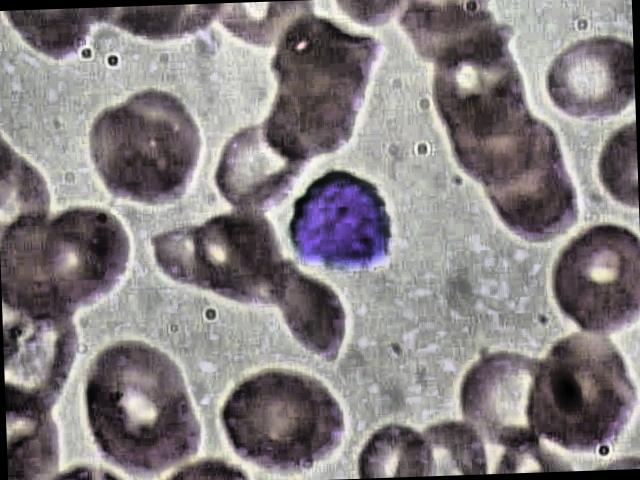RBC: (518, 329, 640, 457), (534, 17, 636, 135), (456, 339, 558, 457), (540, 216, 640, 334), (422, 36, 531, 144), (81, 100, 186, 205), (42, 204, 146, 310), (218, 362, 322, 468), (88, 341, 192, 446), (206, 119, 307, 218), (183, 212, 284, 310), (266, 256, 348, 368)
WBC: (276, 170, 404, 280)
